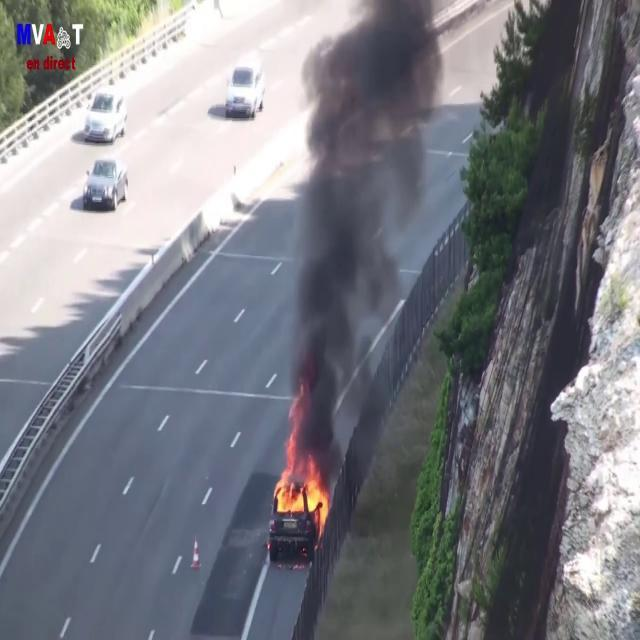Fire: (272, 438, 330, 528)
Smoke: (286, 0, 442, 448)
